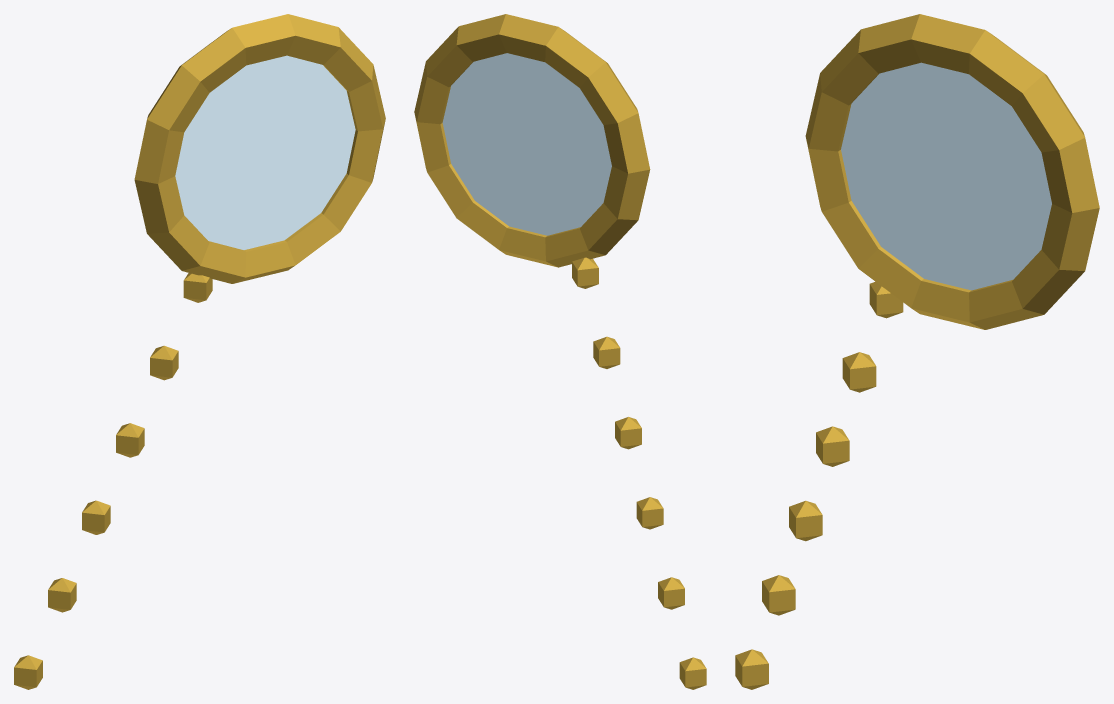
File: disguise_auction_monocle.glb
The picture shows the model from 3 angles, left to right: view 1: azimuth 30°, elevation 25°; view 2: azimuth 150°, elevation 25°; view 3: azimuth 330°, elevation 25°; orthographic projection. The views are drawn at different scales.
Visible parts, largest first — view 1: lens_auction_lens, rim_auction_gold, chain_auction_gold; view 2: lens_auction_lens, rim_auction_gold, chain_auction_gold; view 3: lens_auction_lens, rim_auction_gold, chain_auction_gold.
Part boxes in pixels (left/top/right/bottom): lens_auction_lens: left=175, top=55, right=355, bottom=249; rim_auction_gold: left=134, top=14, right=385, bottom=283; chain_auction_gold: left=14, top=273, right=212, bottom=689; lens_auction_lens: left=442, top=53, right=611, bottom=235; rim_auction_gold: left=414, top=14, right=650, bottom=267; chain_auction_gold: left=572, top=257, right=706, bottom=689; lens_auction_lens: left=841, top=62, right=1051, bottom=290; rim_auction_gold: left=805, top=14, right=1099, bottom=329; chain_auction_gold: left=735, top=281, right=903, bottom=689.
Size of the model in its own units: 0.1441 by 0.2587 by 0.0357.
